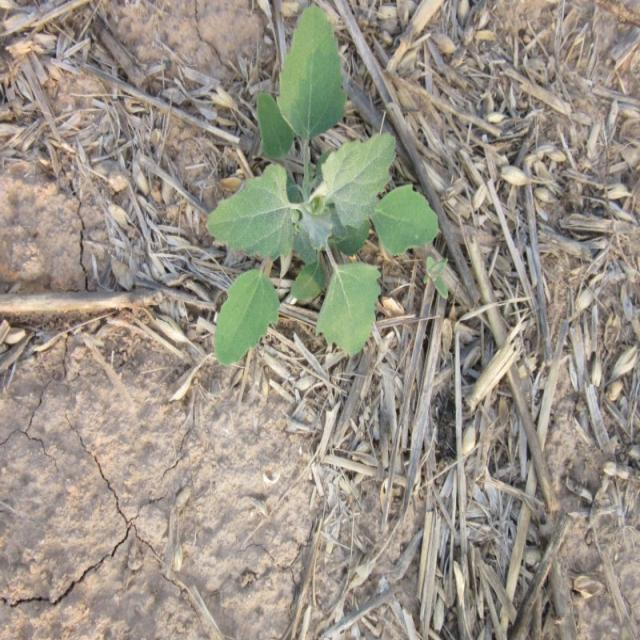ca: (212, 7, 438, 363)
